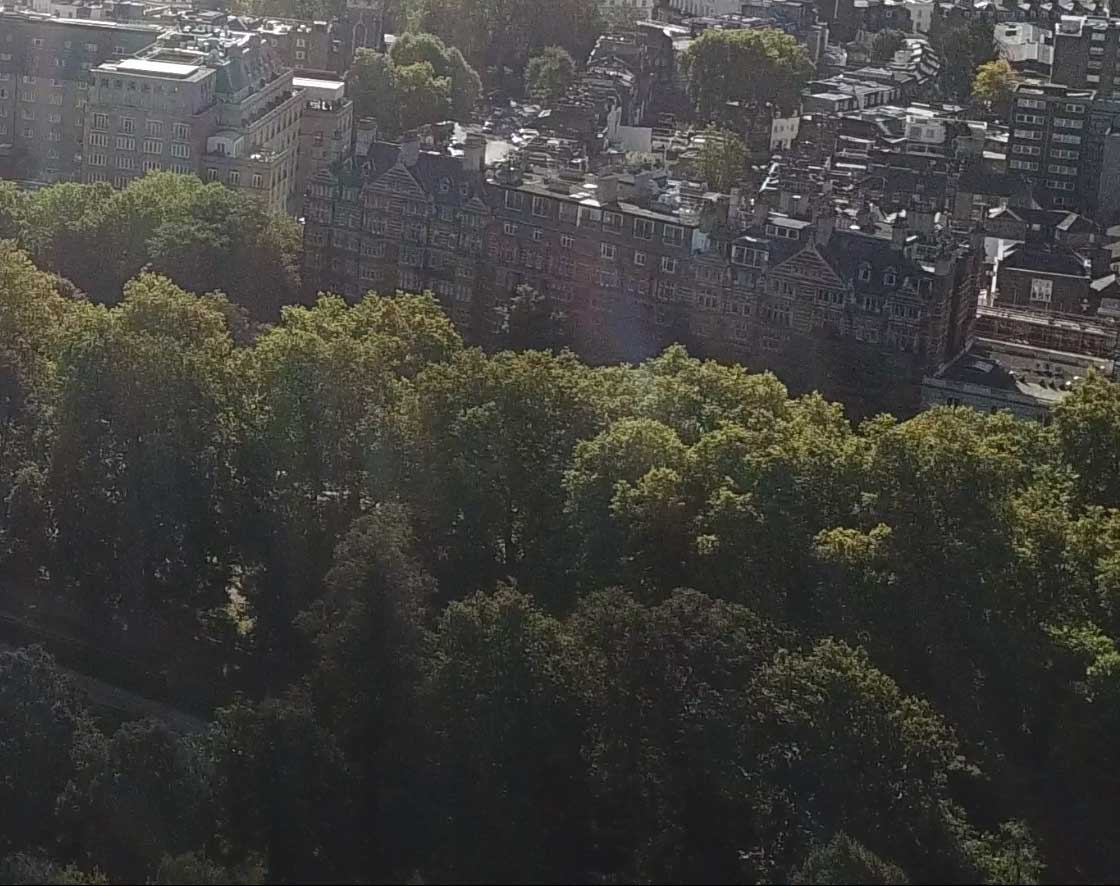building: (595, 194, 987, 413), (2, 7, 376, 205), (302, 142, 633, 338), (1010, 64, 1114, 202)
trees: (6, 303, 1029, 571)
